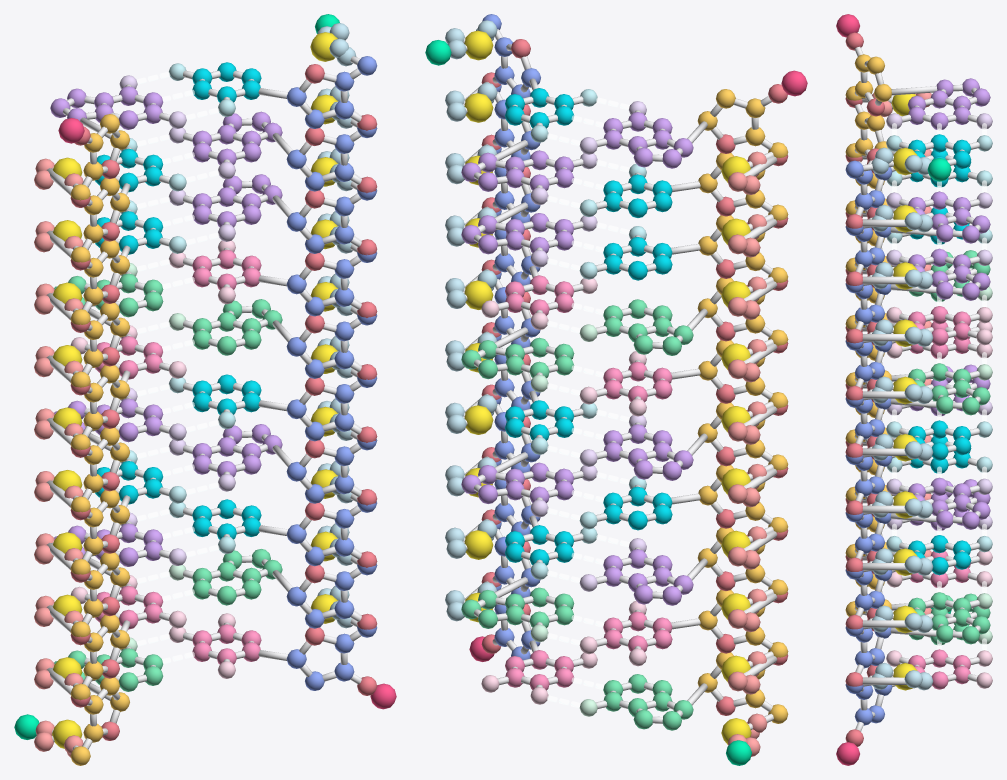
Rendered from Double_Strand_Combined.glb.
The picture shows the model from 3 angles, left to right: view 1: azimuth 30°, elevation 25°; view 2: azimuth 150°, elevation 25°; view 3: azimuth 270°, elevation 25°; orthographic projection. The views are drawn at different scales.
Parts seen in each view (by area): view 1: B_Base_05_A_Ring, B_Base_09_A_Ring, B_Base_02_G_Ring, B_Base_03_G_Ring, B_Base_07_G_Ring, A_Base_10_G_Ring, B_Base_06_C_Ring, B_Base_08_C_Ring, B_Base_01_C_Ring, B_Base_10_T_Ring, B_Base_04_T_Ring, B_Sugar_01_Carbon_B (+59 smaller); view 2: B_Base_07_G_Ring, B_Base_05_A_Ring, B_Base_02_G_Ring, B_Base_03_G_Ring, B_Base_09_A_Ring, A_Base_03_G_Ring, A_Base_07_A_Ring, A_Base_10_G_Ring, A_Base_01_A_Ring, A_Base_05_G_Ring, A_Base_04_C_Ring, A_Base_09_C_Ring (+69 smaller); view 3: A_Base_10_G_Ring, B_Base_03_G_Ring, B_Base_07_G_Ring, B_Base_05_A_Ring, B_Base_09_A_Ring, B_Base_02_G_Ring, B_Base_08_C_Ring, B_Base_04_T_Ring, B_Base_06_C_Ring, B_Base_10_T_Ring, A_Sugar_10_Carbon, B_Sugar_01_Carbon_B (+98 smaller).
Boxes of the visible parts, x1,y1,x2,y2 form: B_Base_05_A_Ring: [192, 299, 282, 355]; B_Base_09_A_Ring: [192, 549, 282, 605]; B_Base_02_G_Ring: [192, 111, 282, 164]; B_Base_03_G_Ring: [192, 174, 282, 227]; B_Base_07_G_Ring: [192, 424, 282, 476]; A_Base_10_G_Ring: [50, 86, 163, 129]; B_Base_06_C_Ring: [192, 374, 261, 414]; B_Base_08_C_Ring: [192, 499, 261, 539]; B_Base_01_C_Ring: [192, 62, 261, 102]; B_Base_10_T_Ring: [192, 624, 261, 664]; B_Base_04_T_Ring: [192, 249, 261, 289]; B_Sugar_01_Carbon_B: [286, 56, 377, 128]; B_Base_07_G_Ring: [461, 462, 574, 503]; B_Base_05_A_Ring: [461, 337, 574, 379]; B_Base_02_G_Ring: [461, 150, 574, 191]; B_Base_03_G_Ring: [461, 213, 574, 254]; B_Base_09_A_Ring: [461, 587, 574, 628]; A_Base_03_G_Ring: [603, 549, 693, 605]; A_Base_07_A_Ring: [603, 299, 693, 355]; A_Base_10_G_Ring: [603, 112, 693, 168]; A_Base_01_A_Ring: [603, 674, 693, 730]; A_Base_05_G_Ring: [603, 424, 693, 480]; A_Base_04_C_Ring: [603, 486, 672, 530]; A_Base_09_C_Ring: [603, 174, 672, 217]; A_Base_10_G_Ring: [907, 78, 990, 129]; B_Base_03_G_Ring: [908, 248, 990, 300]; B_Base_07_G_Ring: [908, 477, 990, 529]; B_Base_05_A_Ring: [908, 363, 990, 415]; B_Base_09_A_Ring: [908, 592, 990, 644]; B_Base_02_G_Ring: [908, 191, 990, 243]; B_Base_08_C_Ring: [908, 535, 971, 575]; B_Base_04_T_Ring: [908, 306, 971, 346]; B_Base_06_C_Ring: [908, 420, 971, 460]; B_Base_10_T_Ring: [908, 649, 971, 689]; A_Sugar_10_Carbon: [845, 54, 891, 101]; B_Sugar_01_Carbon_B: [845, 160, 892, 210].
Size of the model in its own units: 0.1908 by 0.3625 by 0.0844.
